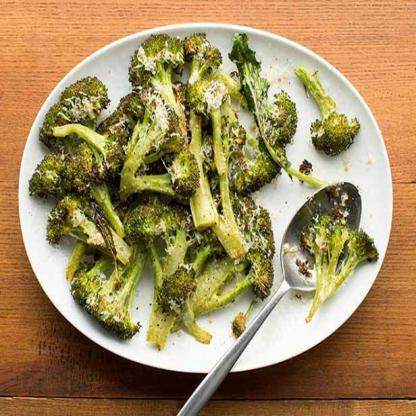broccoli: (25, 36, 380, 351)
